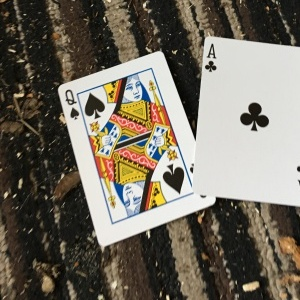card: (57, 51, 206, 250)
